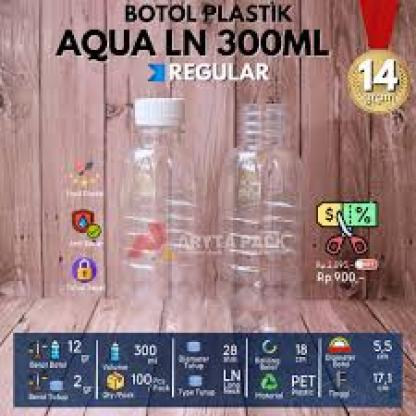Glass Bottle: (116, 94, 214, 333), (215, 97, 311, 333)
